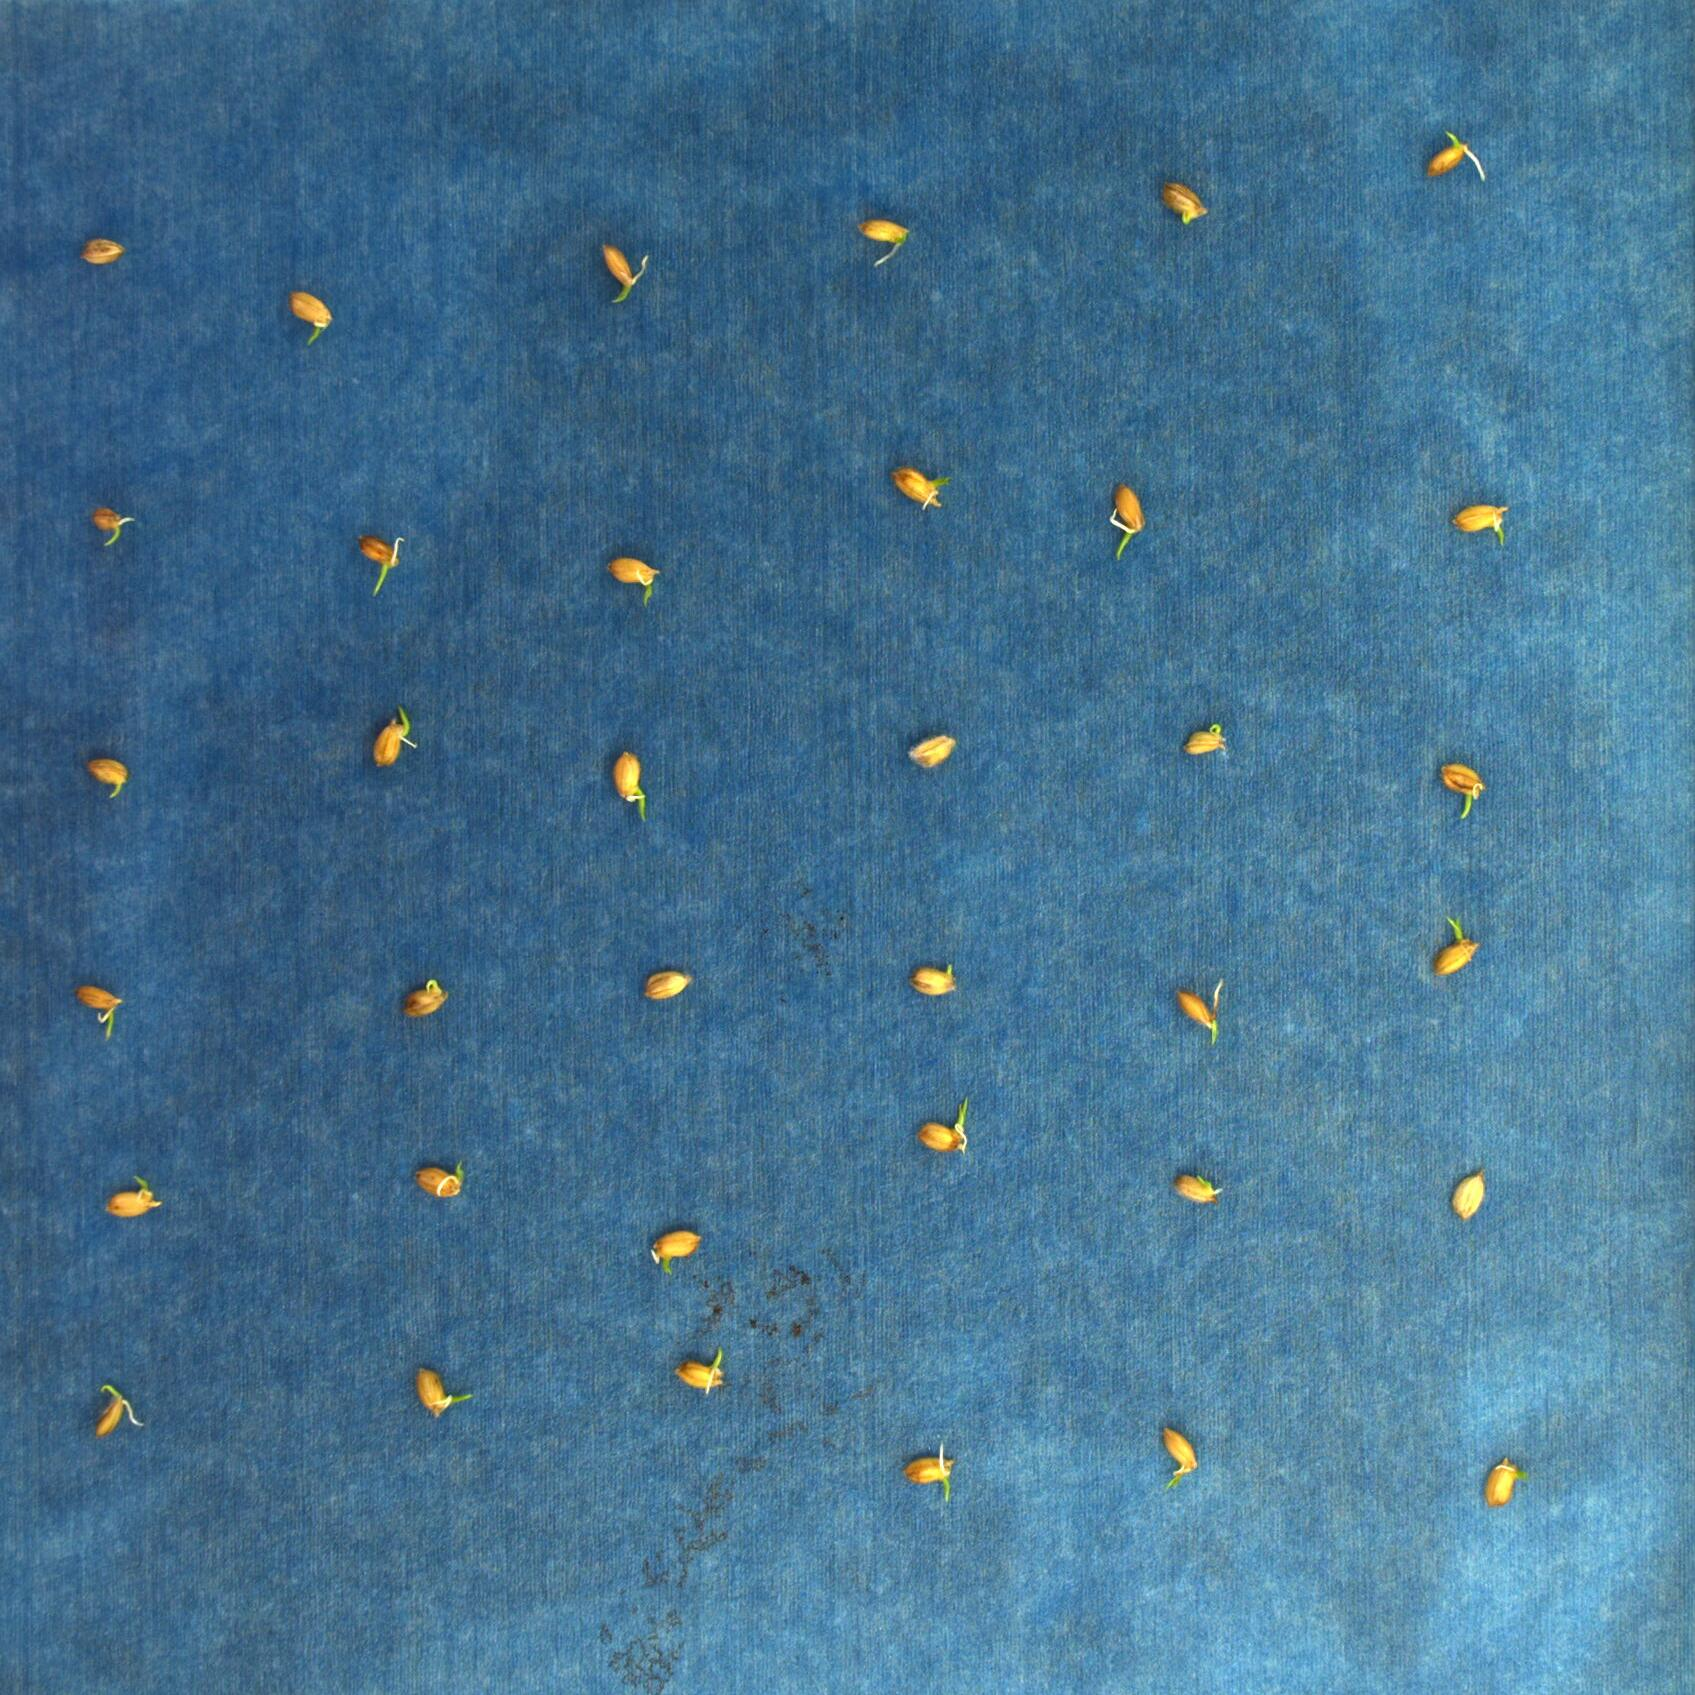not sprout: (1173, 976, 1226, 1046), (1439, 506, 1513, 546), (99, 1175, 166, 1218), (647, 1228, 708, 1274), (610, 557, 663, 607), (289, 290, 335, 346), (411, 1159, 466, 1205), (1479, 1458, 1527, 1506), (394, 979, 445, 1021), (1166, 1170, 1226, 1205), (900, 733, 955, 770), (1454, 1166, 1489, 1220), (92, 753, 130, 799), (911, 961, 958, 998), (78, 233, 126, 267), (646, 972, 692, 1003), (1183, 726, 1228, 757)
sprout: (598, 237, 650, 307), (1423, 127, 1487, 185), (354, 529, 404, 601), (902, 1440, 955, 1503), (605, 748, 647, 826), (913, 1094, 969, 1152), (885, 466, 953, 512), (414, 1367, 473, 1419), (1440, 753, 1485, 820), (93, 1383, 144, 1440), (371, 706, 418, 768), (1437, 913, 1479, 981), (71, 986, 121, 1043), (852, 217, 911, 265), (1110, 484, 1144, 559), (672, 1349, 726, 1392), (1164, 1423, 1198, 1492), (1159, 183, 1212, 225), (98, 503, 141, 548)
